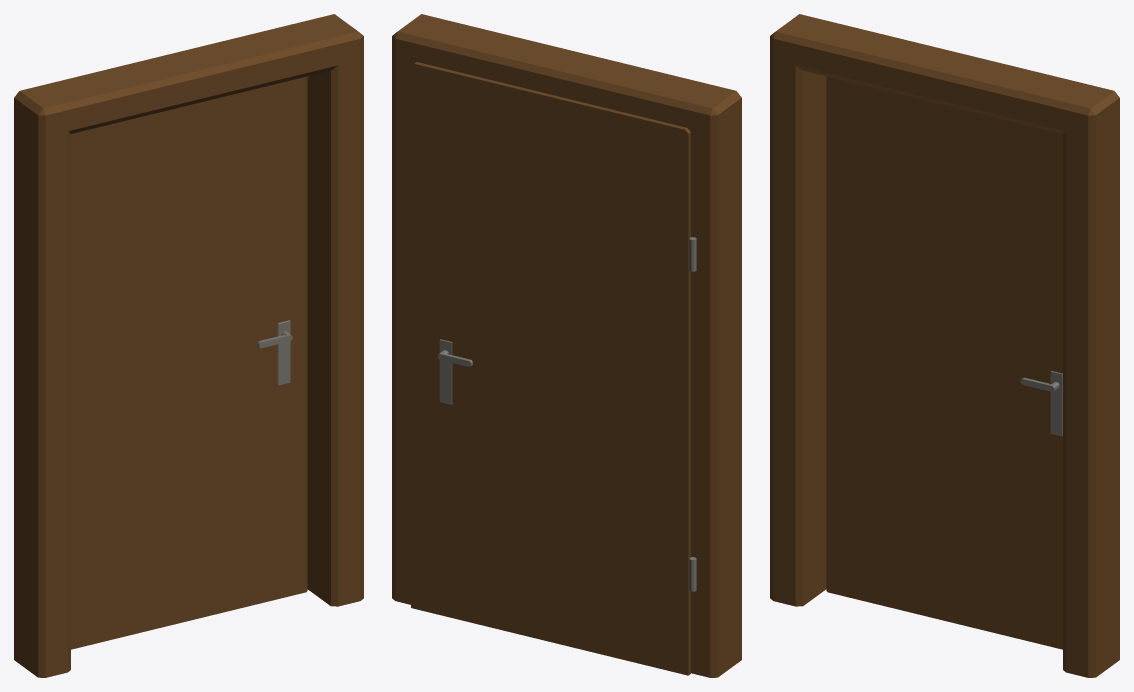
Rendered from door1.fbx.
3 views of the same model, side by side, from view 1: azimuth 30°, elevation 25°; view 2: azimuth 150°, elevation 25°; view 3: azimuth 330°, elevation 25° (orthographic).
Visible parts, largest first — view 1: Cube.001, Cube; view 2: Cube.001, Cube; view 3: Cube.001, Cube.
Part boxes in pixels (x1,y1,x2,y2): Cube.001: (71, 76, 307, 649); Cube: (14, 14, 363, 677); Cube.001: (411, 62, 690, 675); Cube: (392, 14, 741, 677); Cube.001: (826, 76, 1062, 649); Cube: (770, 14, 1119, 677).
Size of the model in its own units: 1.2 by 2 by 0.2362.
